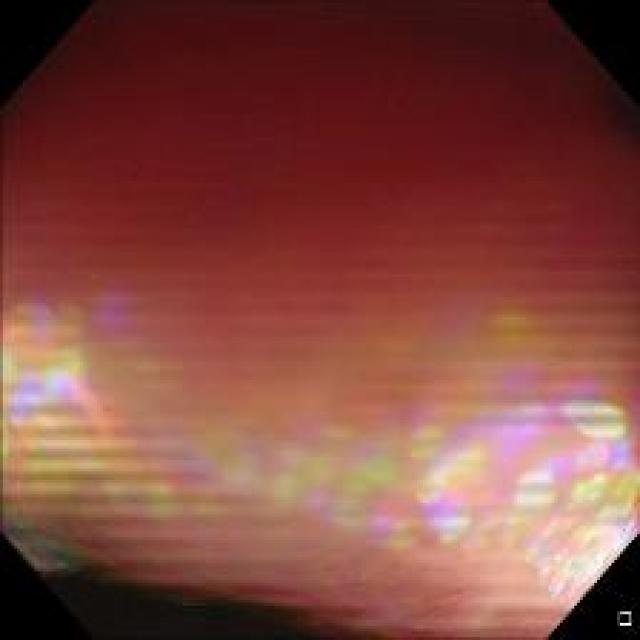color misalignment: (6, 10, 632, 630), (5, 284, 632, 611)
contrast: (12, 542, 371, 625)
